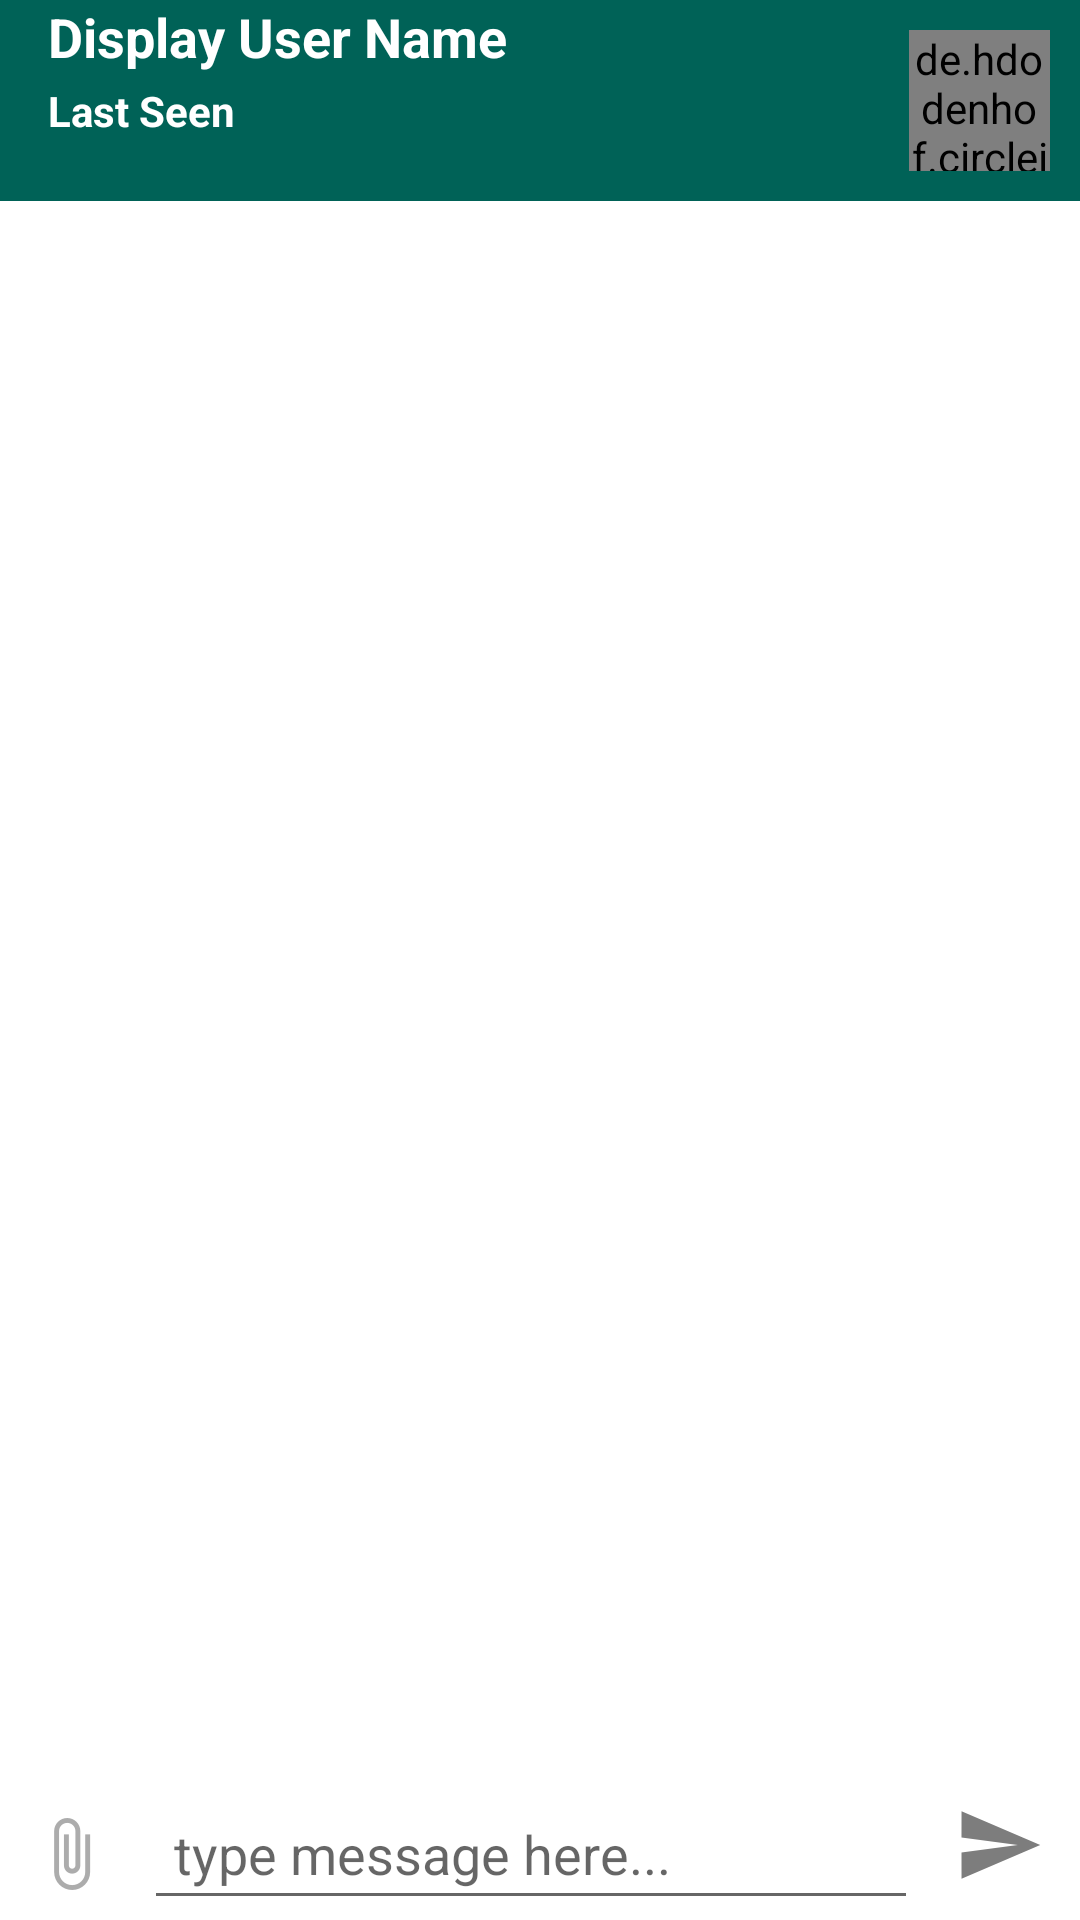

Where to tap for icons on this 1080 × 1920 app screen, as (x=x, y=y):
send: (x=1000, y=1845)
send file: (x=72, y=1854)
